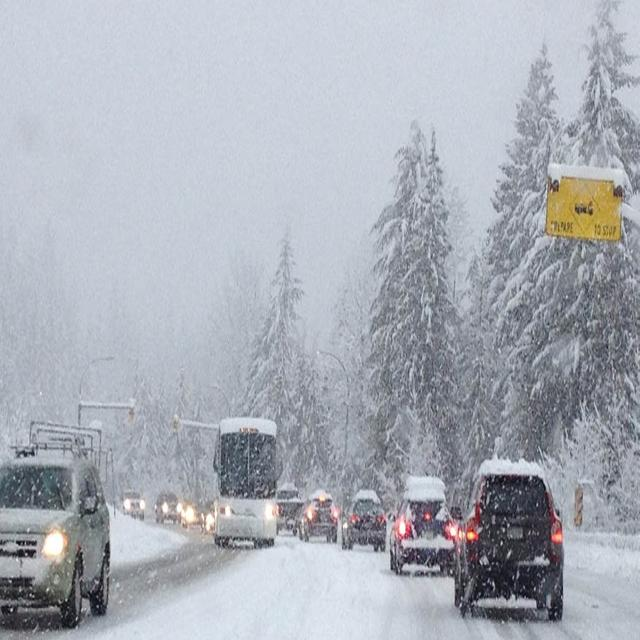car: (0, 442, 112, 631), (452, 467, 564, 624), (392, 478, 454, 571), (344, 489, 386, 552), (299, 494, 337, 544), (276, 486, 302, 535), (156, 489, 182, 525), (120, 484, 146, 518), (183, 499, 200, 522), (202, 507, 214, 534)
truck: (212, 419, 280, 543)
